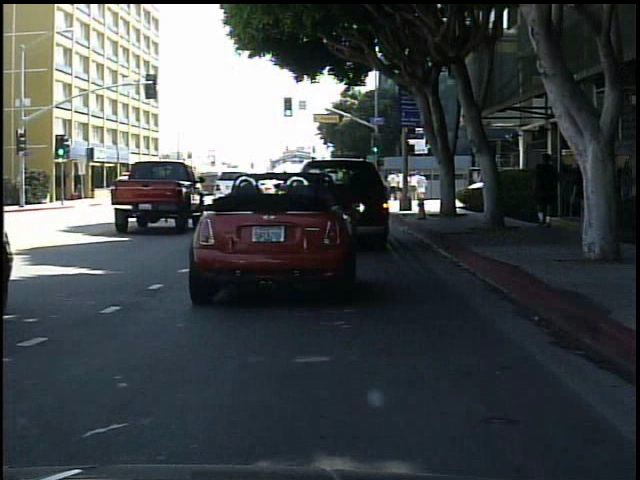person: (574, 138, 617, 256), (526, 149, 562, 230), (145, 172, 164, 202)
